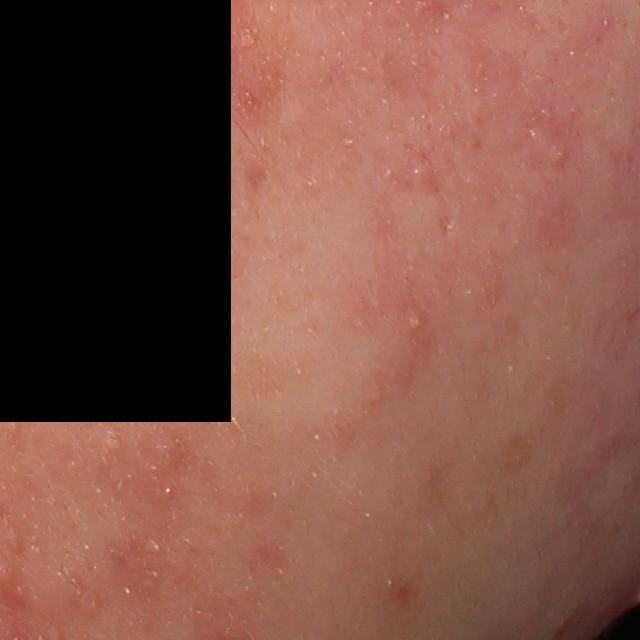atrophic_scar: (242, 160, 269, 196), (436, 208, 456, 234)
pustule: (403, 307, 421, 333)
